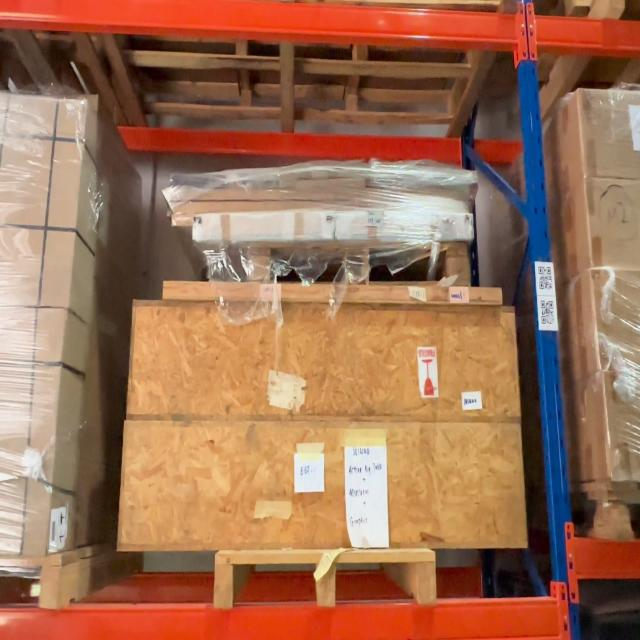box: (126, 428, 521, 541), (134, 304, 517, 414)
